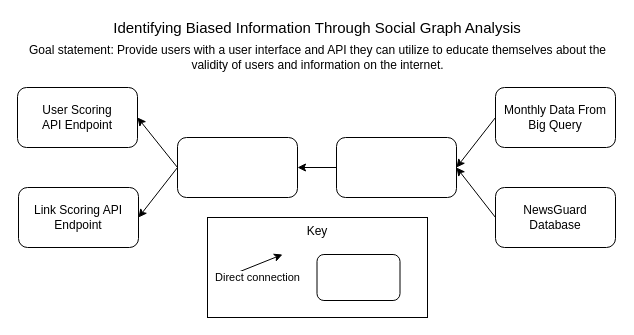
This 634x335 diagram has some shape labels left out. Each missing label, with the centre of its shape:
"Generate User and Link Scores" goes at pixel 396 167.
"Process block" goes at pixel 358 277.
"Score Database" goes at pixel 237 167.
